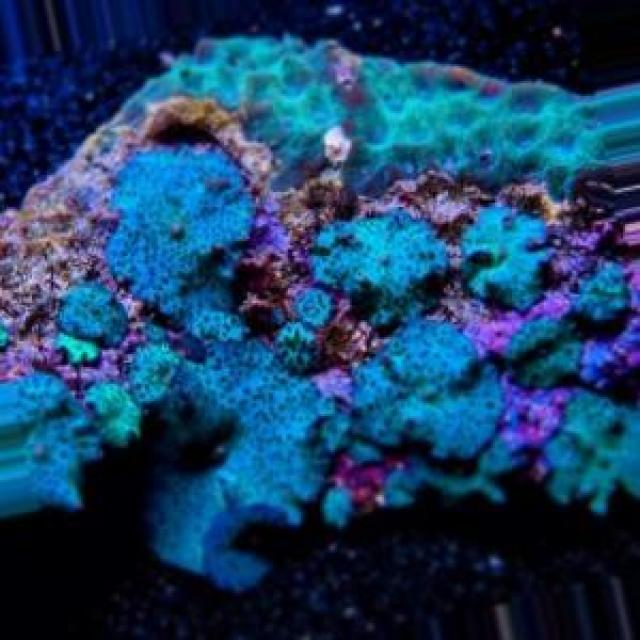healthy coral: (0, 40, 640, 589)
